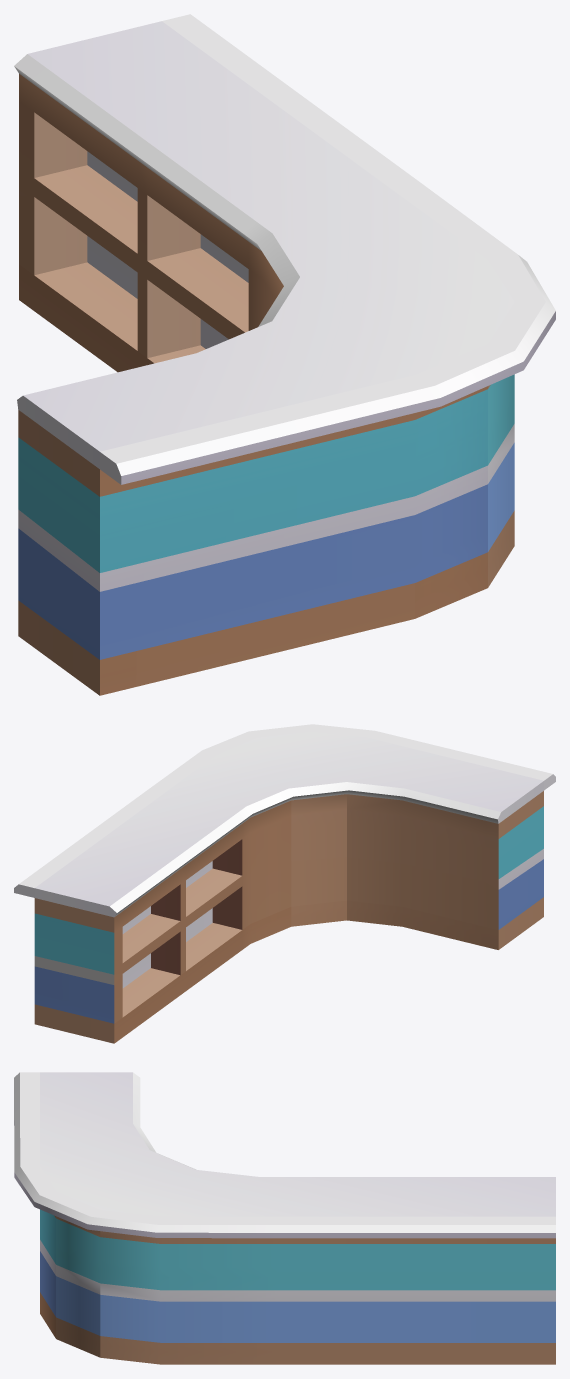
The model's file is Counter_Mesh.fbx.
The picture shows the model from 3 angles, top to bottom: view 1: azimuth 30°, elevation 25°; view 2: azimuth 150°, elevation 25°; view 3: azimuth 270°, elevation 25°; orthographic projection. The views are drawn at different scales.
Visible parts, largest first — view 1: Counter_Mesh; view 2: Counter_Mesh; view 3: Counter_Mesh.
Part boxes in pixels (box(x1,y1,x2,y2)): Counter_Mesh: box(14, 14, 555, 695); Counter_Mesh: box(14, 724, 555, 1043); Counter_Mesh: box(14, 1072, 555, 1364).
Size of the model in its own units: 215 by 95.43 by 317.
Materials: 1 (1 with a texture image).
